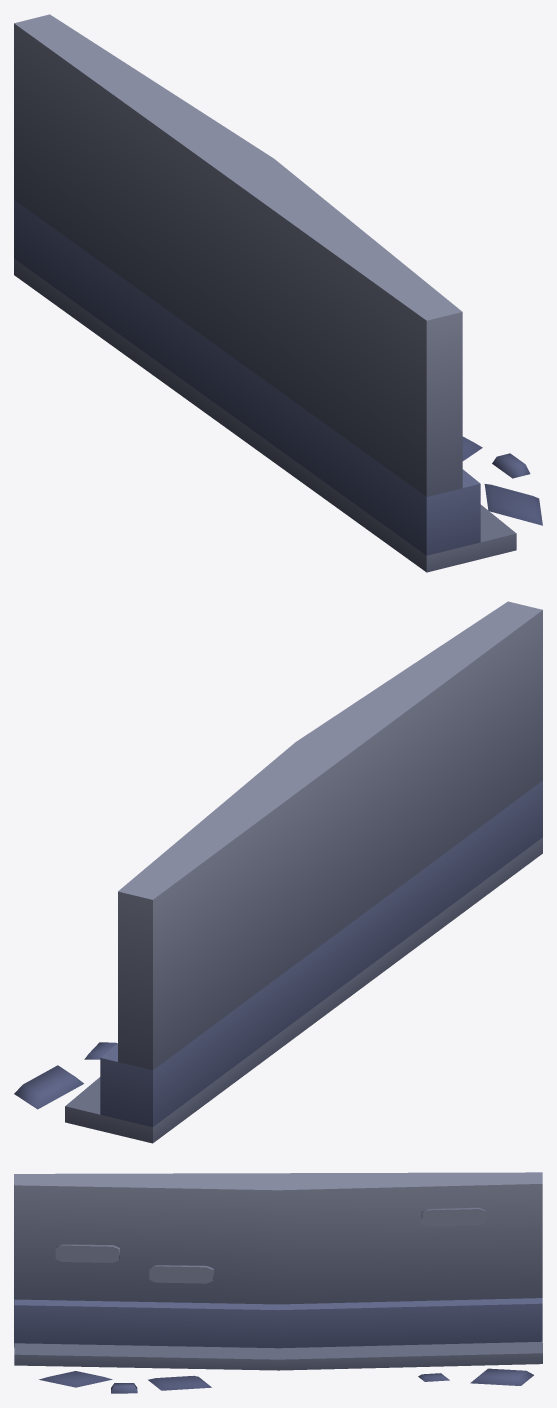
File: template-wall.001.003_lev1.glb
3 renders of one model, top to bottom at view 1: azimuth 30°, elevation 25°; view 2: azimuth 150°, elevation 25°; view 3: azimuth 270°, elevation 25°, orthographic. The views are drawn at different scales.
Visible parts, largest first — view 1: template-wall.001.003_lev1; view 2: template-wall.001.003_lev1; view 3: template-wall.001.003_lev1.
Boxes of the visible parts, bbox=[...] form: template-wall.001.003_lev1: bbox=[14, 14, 542, 572]; template-wall.001.003_lev1: bbox=[14, 601, 542, 1143]; template-wall.001.003_lev1: bbox=[14, 1172, 542, 1393].
Size of the model in its own units: 4.04 by 5.3 by 15.57.
1 material, 1 textured.
